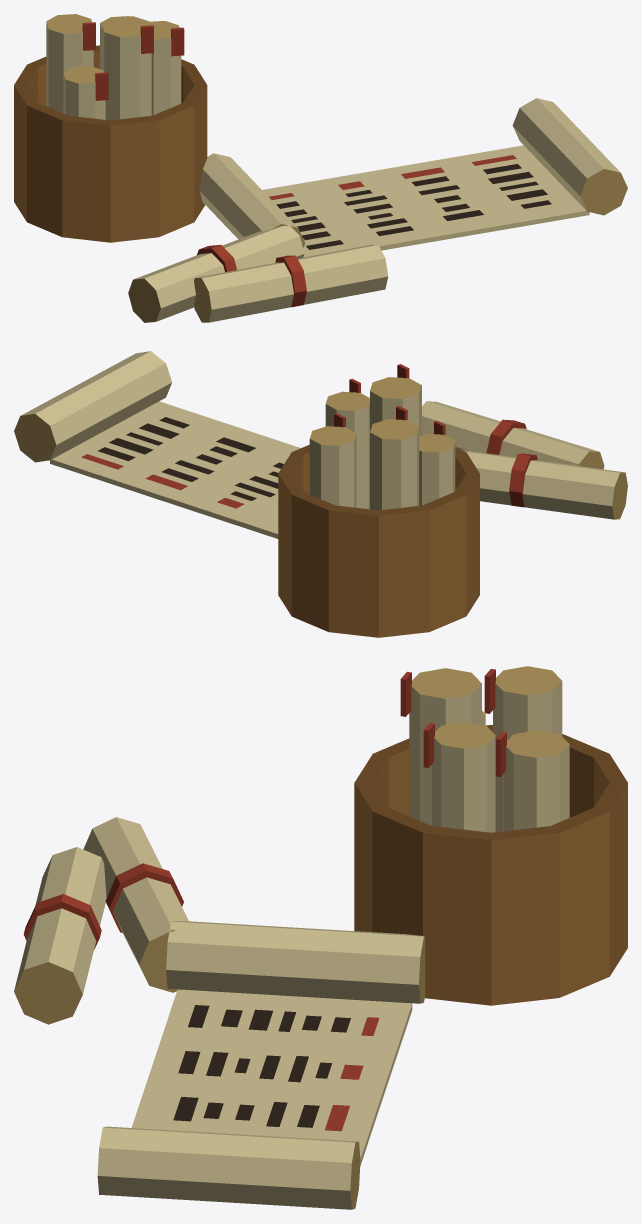
The model's file is papyrus.glb.
3 views of the same model, one above another, from view 1: azimuth 30°, elevation 25°; view 2: azimuth 150°, elevation 25°; view 3: azimuth 270°, elevation 25° (orthographic). The views are drawn at different scales.
Parts seen in each view (by area): view 1: papyrus; view 2: papyrus; view 3: papyrus.
Boxes of the visible parts, x1,y1,x2,y2 form: papyrus: [14, 14, 627, 322]; papyrus: [14, 351, 627, 637]; papyrus: [14, 666, 627, 1209].
Bounding box in the file's own units: 0.9011 × 0.335 × 0.6735.
